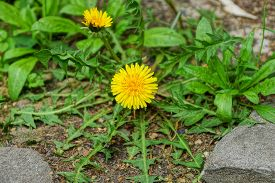dandelion: (108, 69, 160, 109), (85, 8, 115, 34)
